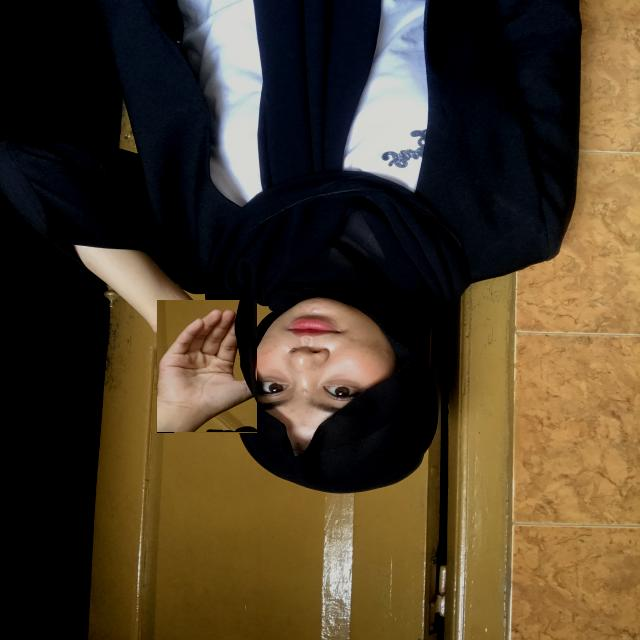mendengar: (154, 300, 256, 433)
